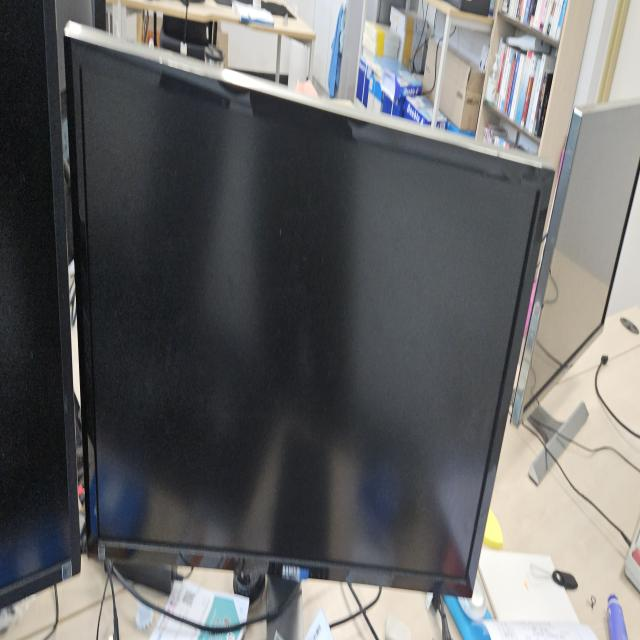Monitor: (62, 19, 555, 608)
